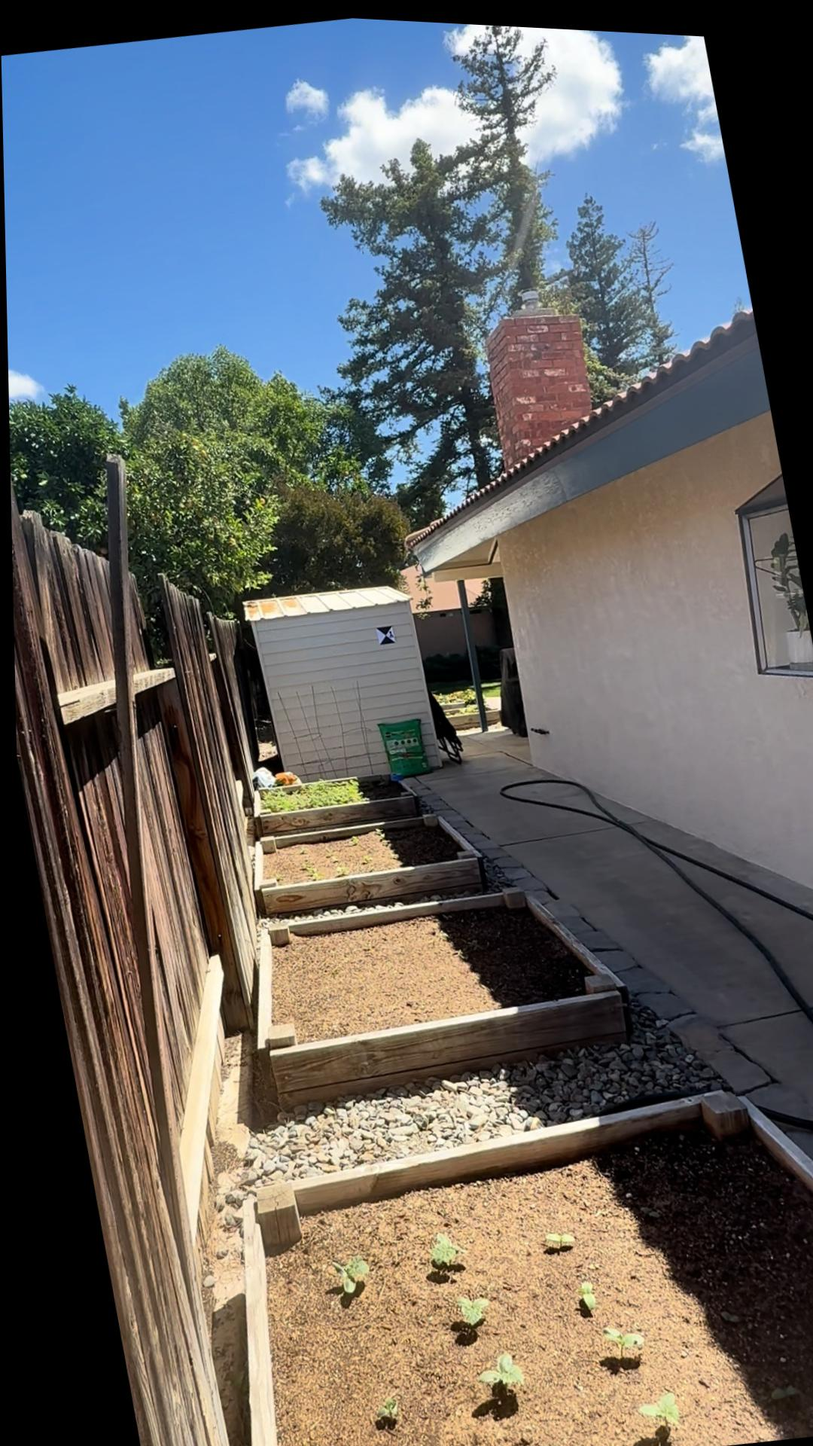target1: (375, 622, 399, 648)
